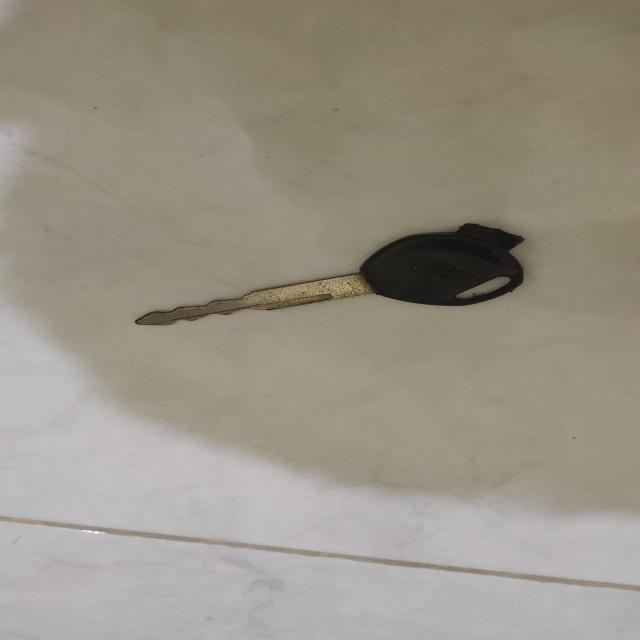kunci_motor: (125, 220, 552, 334)
